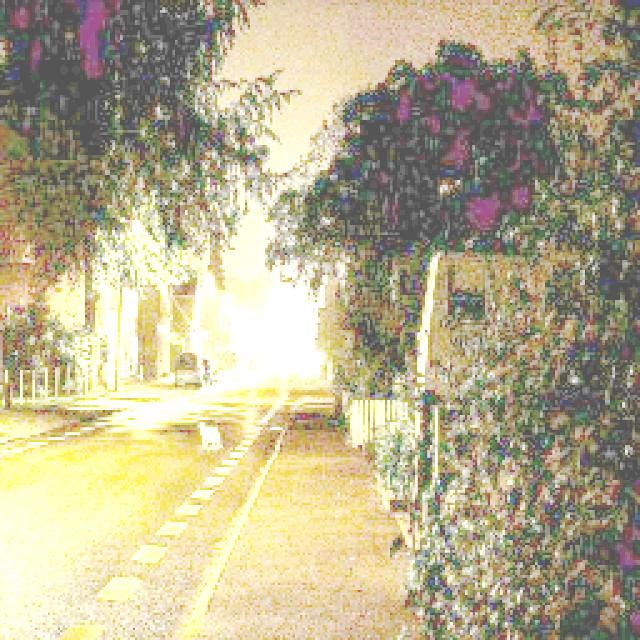cat: (183, 413, 230, 466)
